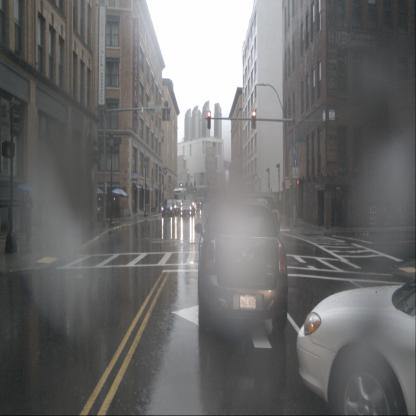human-pedestrian-adult: (17, 184, 33, 240), (339, 184, 350, 229), (155, 196, 159, 215), (160, 200, 163, 213)
vehicle-bus-rigid: (174, 188, 186, 210)
vehicle-car: (296, 286, 416, 413), (198, 199, 288, 339), (249, 192, 280, 236), (180, 199, 193, 218), (162, 199, 174, 217), (168, 199, 178, 215), (184, 196, 194, 212), (189, 201, 197, 212), (194, 198, 202, 208)
